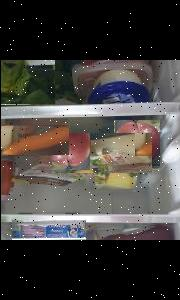Manzana: (112, 120, 158, 168)
Zanahoria: (0, 125, 68, 155)
